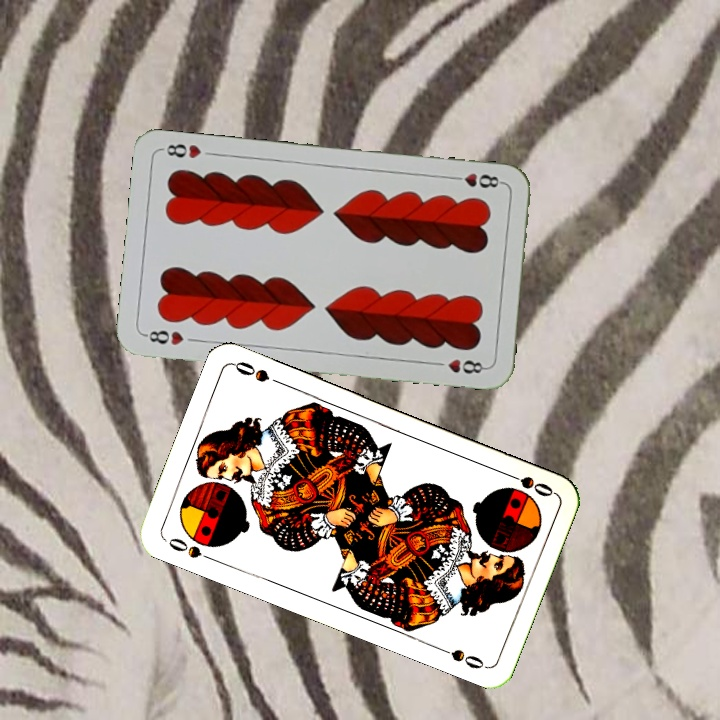H8: (447, 169, 506, 191), (140, 326, 186, 348)
SO: (499, 468, 556, 500), (161, 533, 218, 564)
